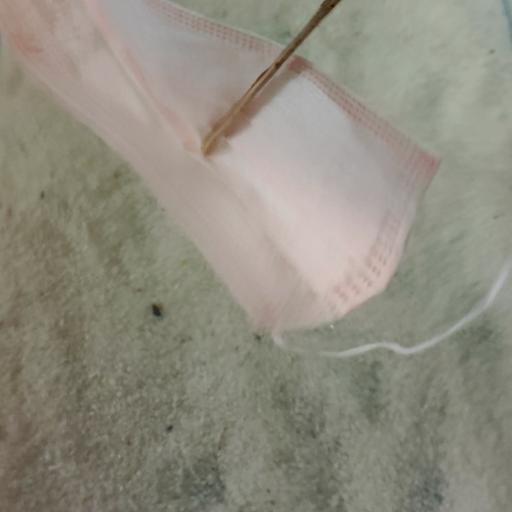mask: (2, 0, 441, 341)
